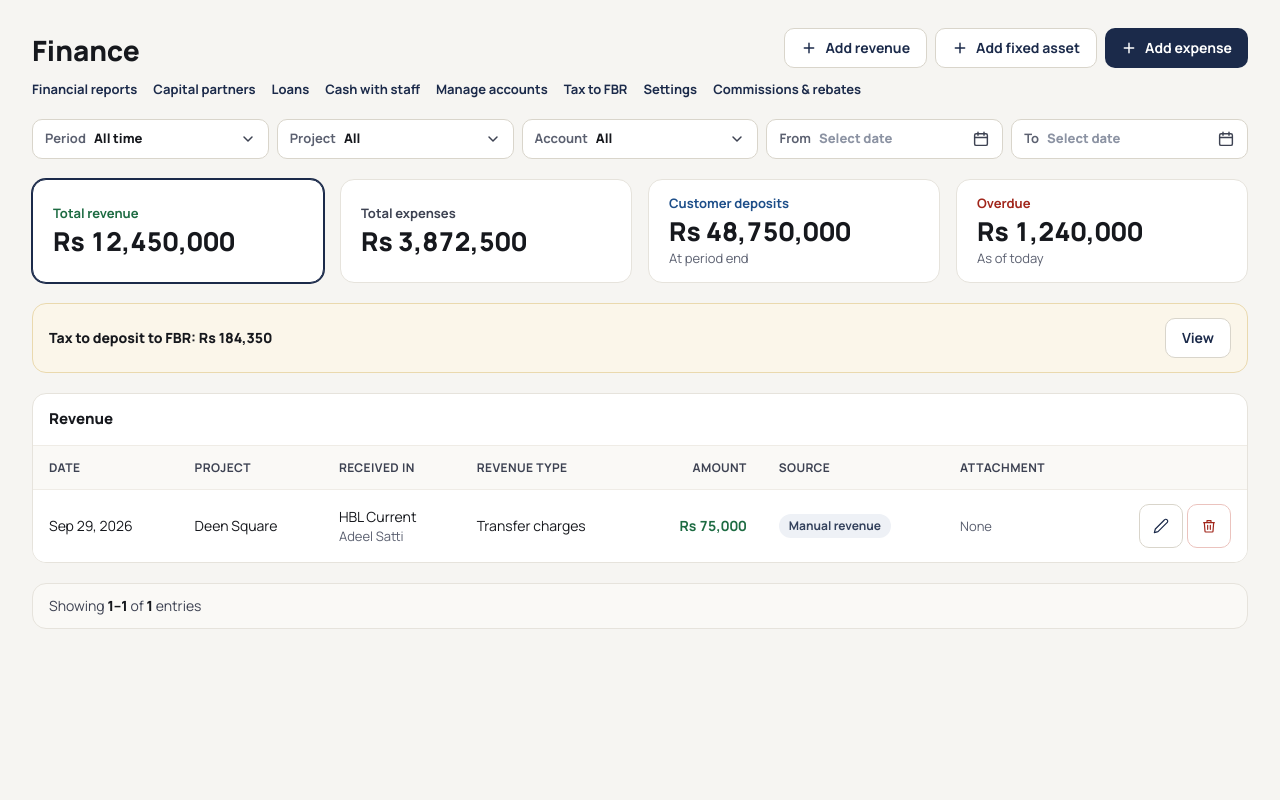
Test case: Finance home › switches the table when a card is chosen
The width and height of the screenshot is (1280, 800).
Expected: the heading "Revenue" is shown, left=33, top=394, right=1247, bottom=446
Click the button "Total expenses Rs 3,872,500": [486, 231] box left=340, top=179, right=632, bottom=283
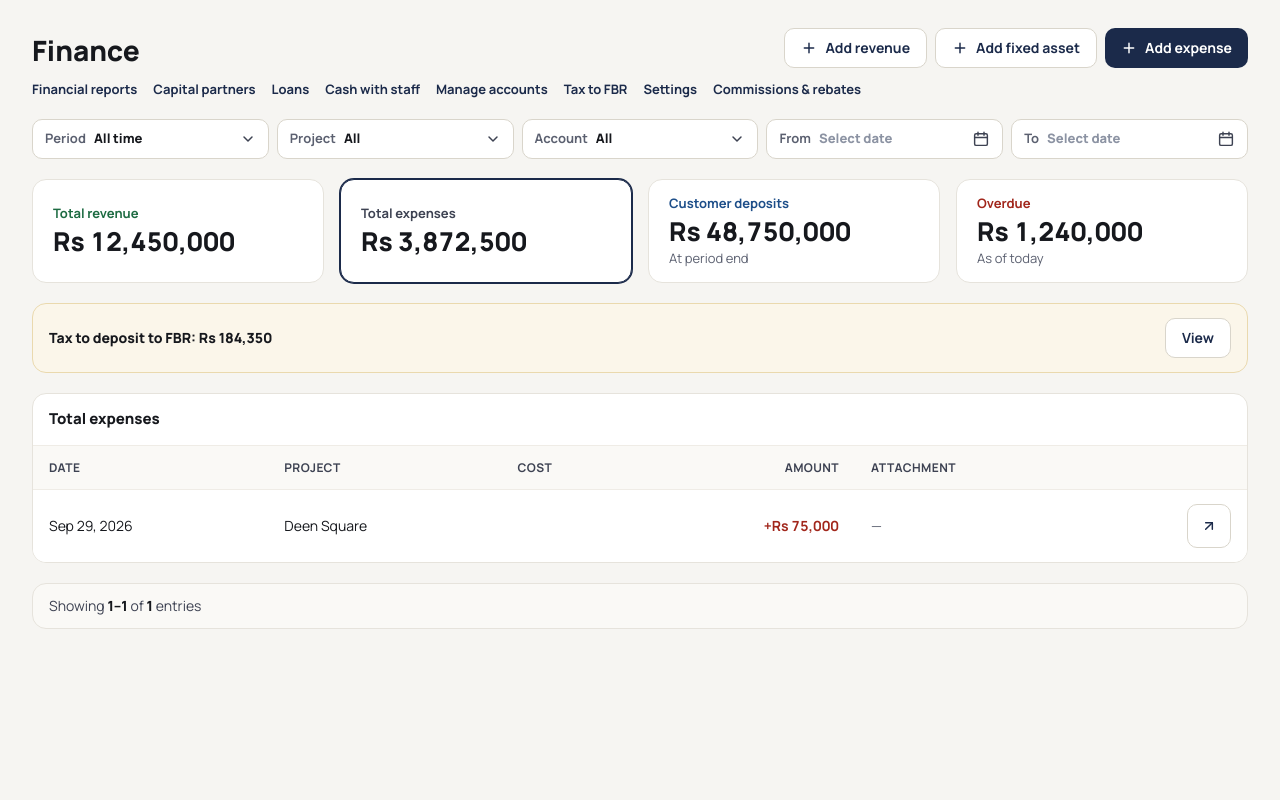
Result: the heading "Total expenses" is shown at left=33, top=394, right=1247, bottom=446
